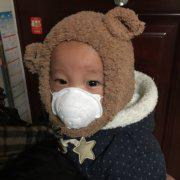OK: (44, 62, 112, 130)
